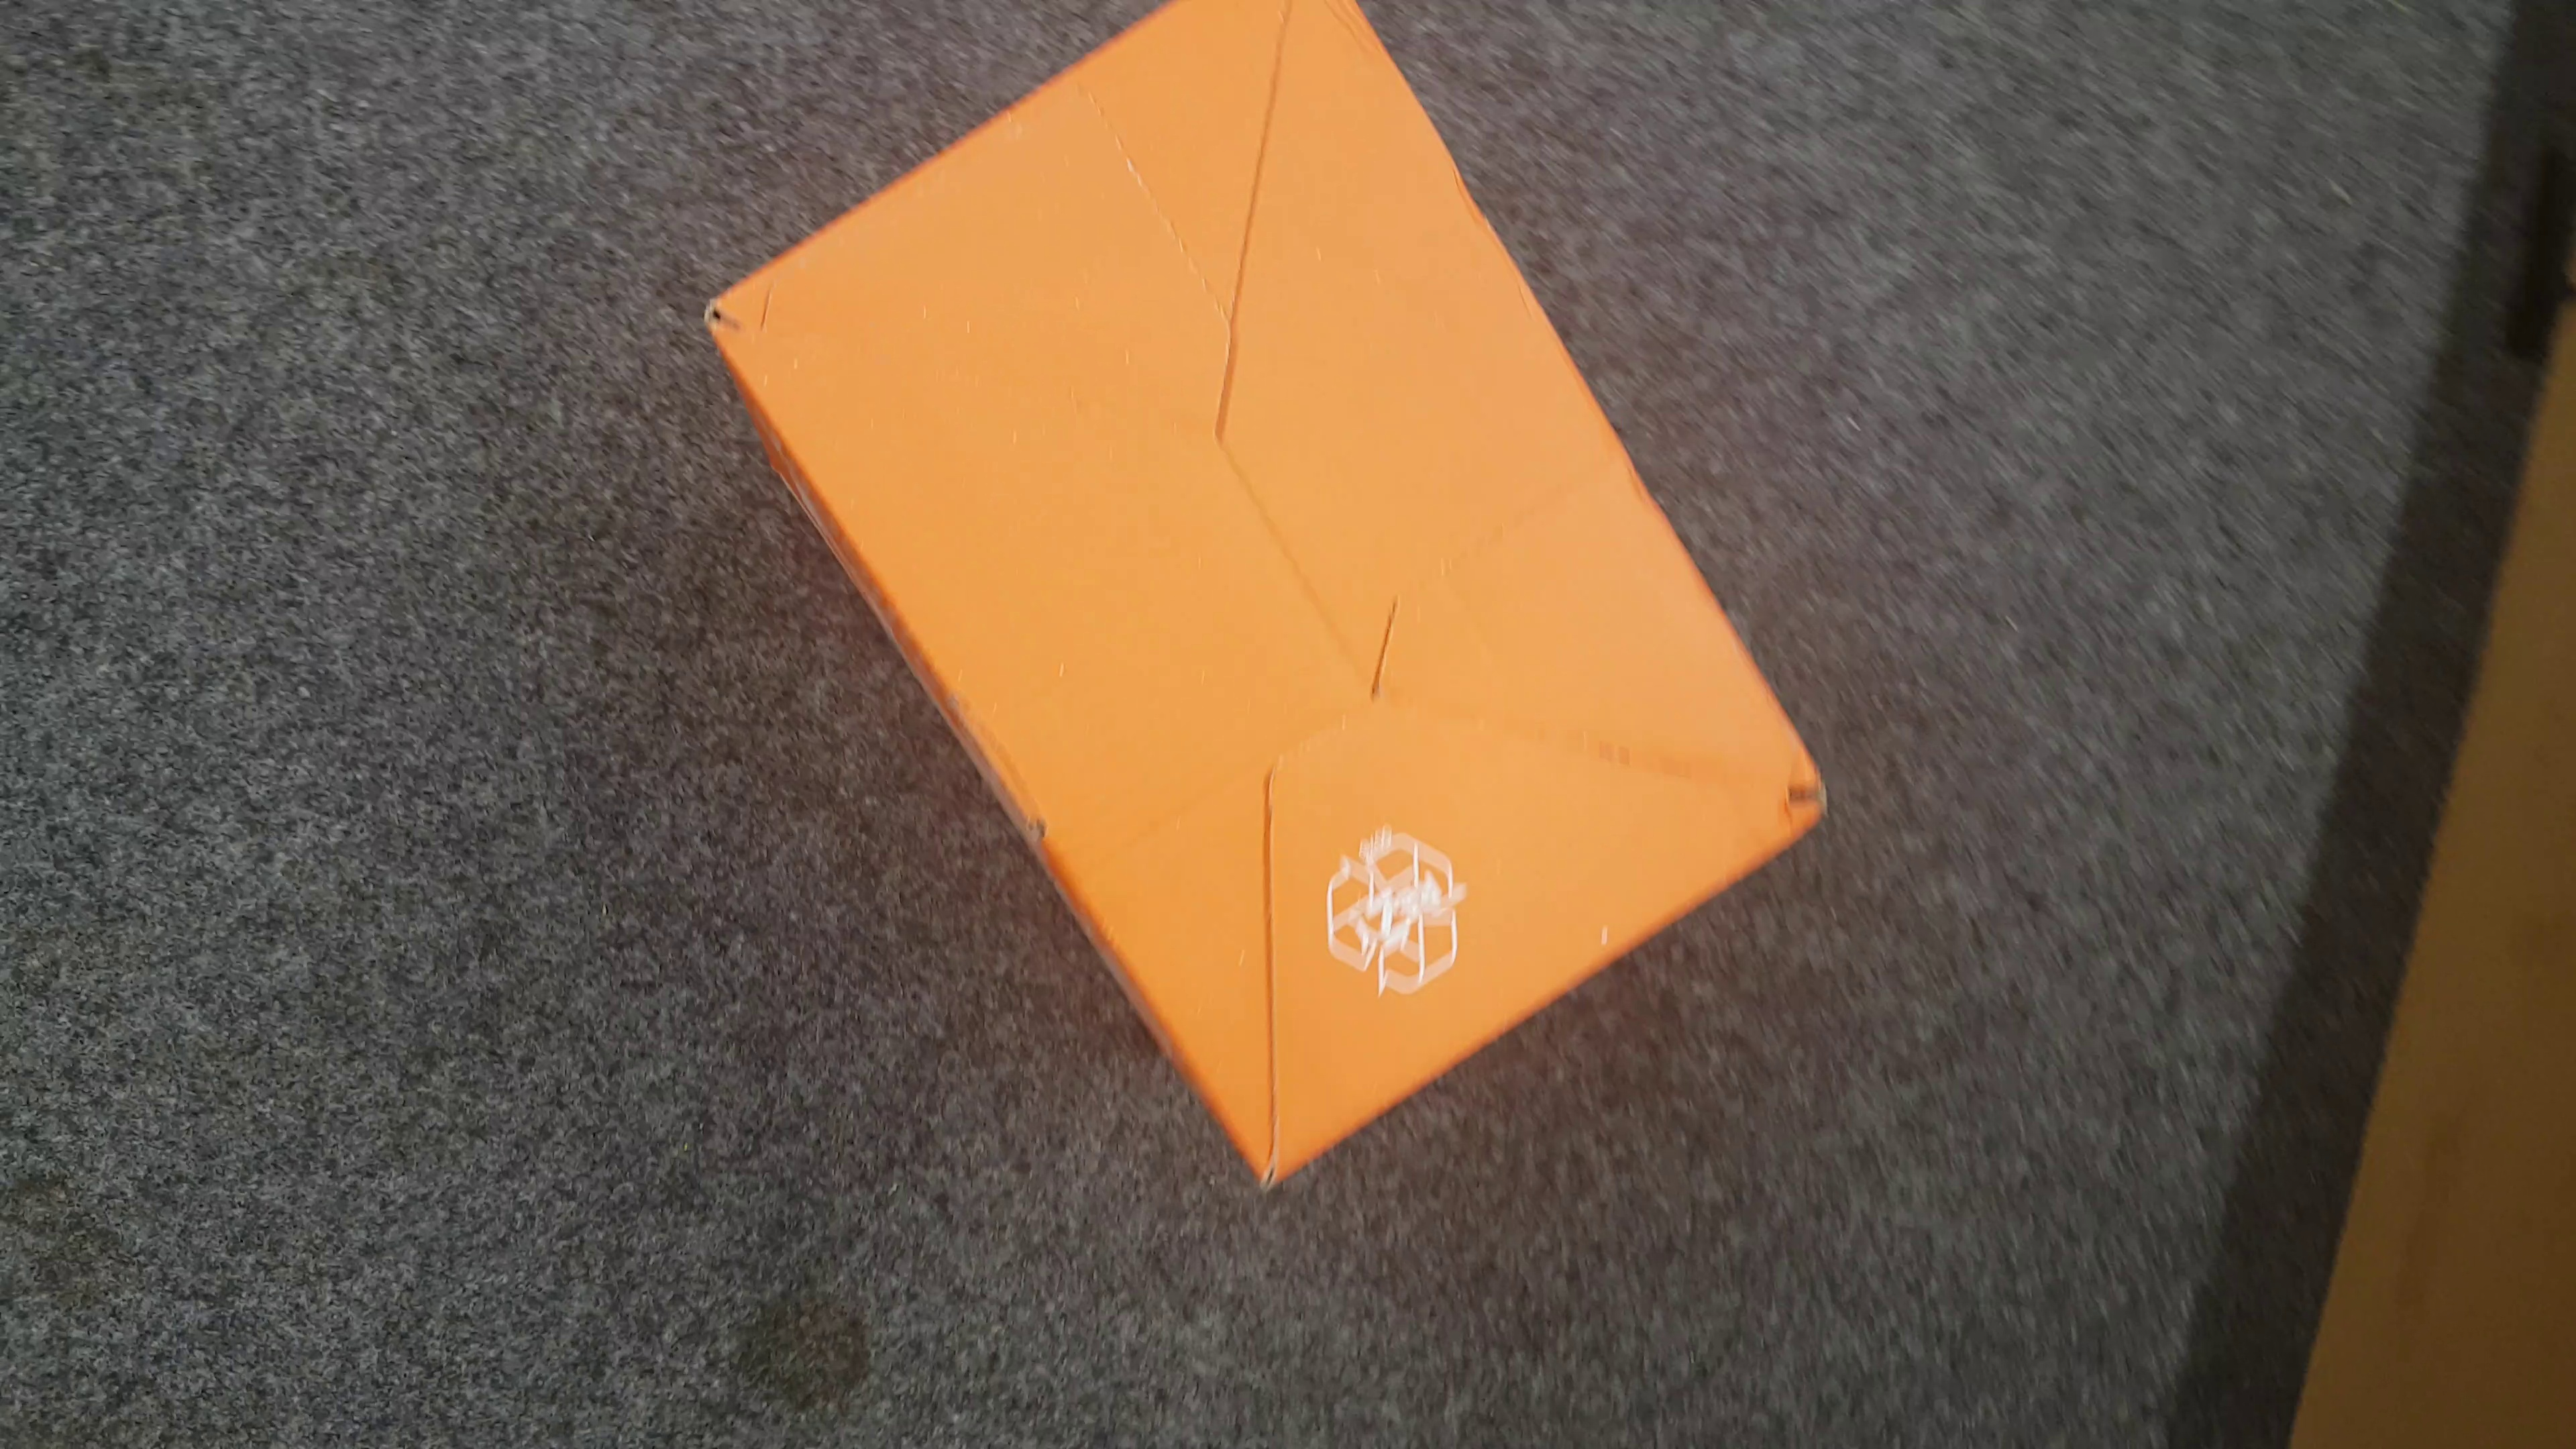push: (699, 0, 1836, 1184)
